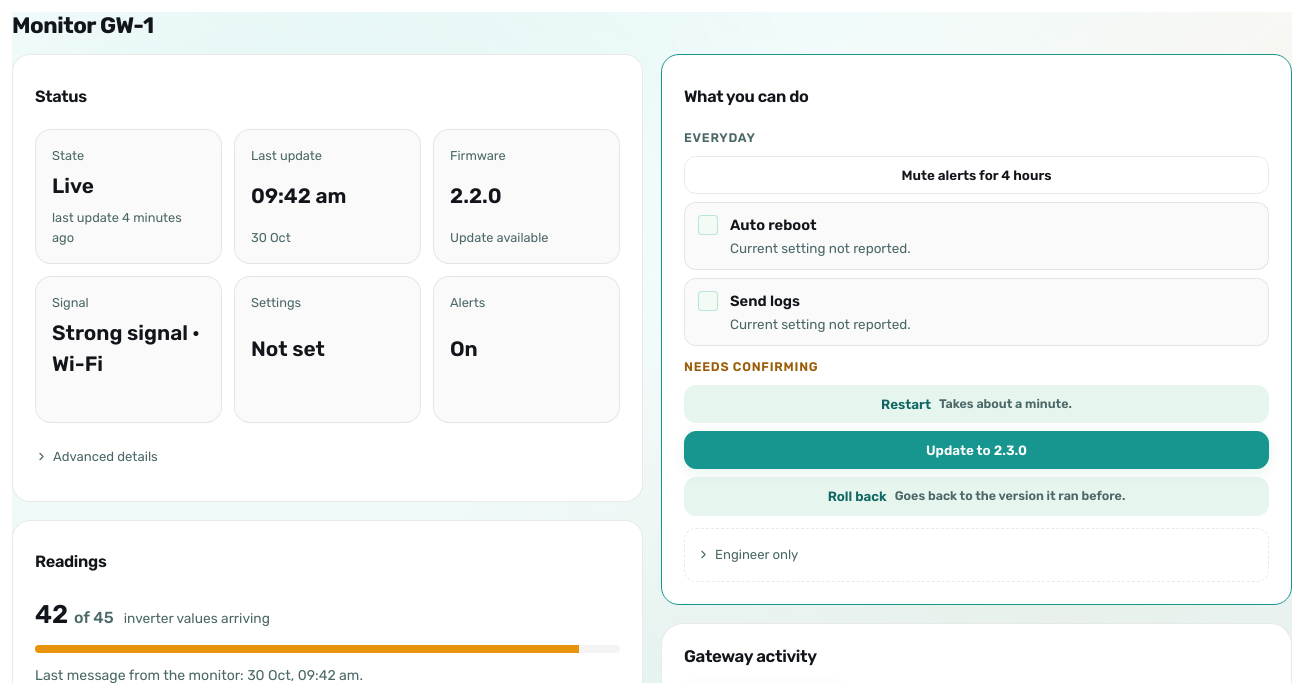
Test: DevicePage › mutes directly and shows a plain error on refusal (CF-4, CF-5)
Expected: the text "On" is shown, [450, 336, 478, 360]
Expected: the button "turn alerts back on" is not shown
Click the button "Mute alerts for 4 hours": (976, 175) [684, 156, 1269, 194]
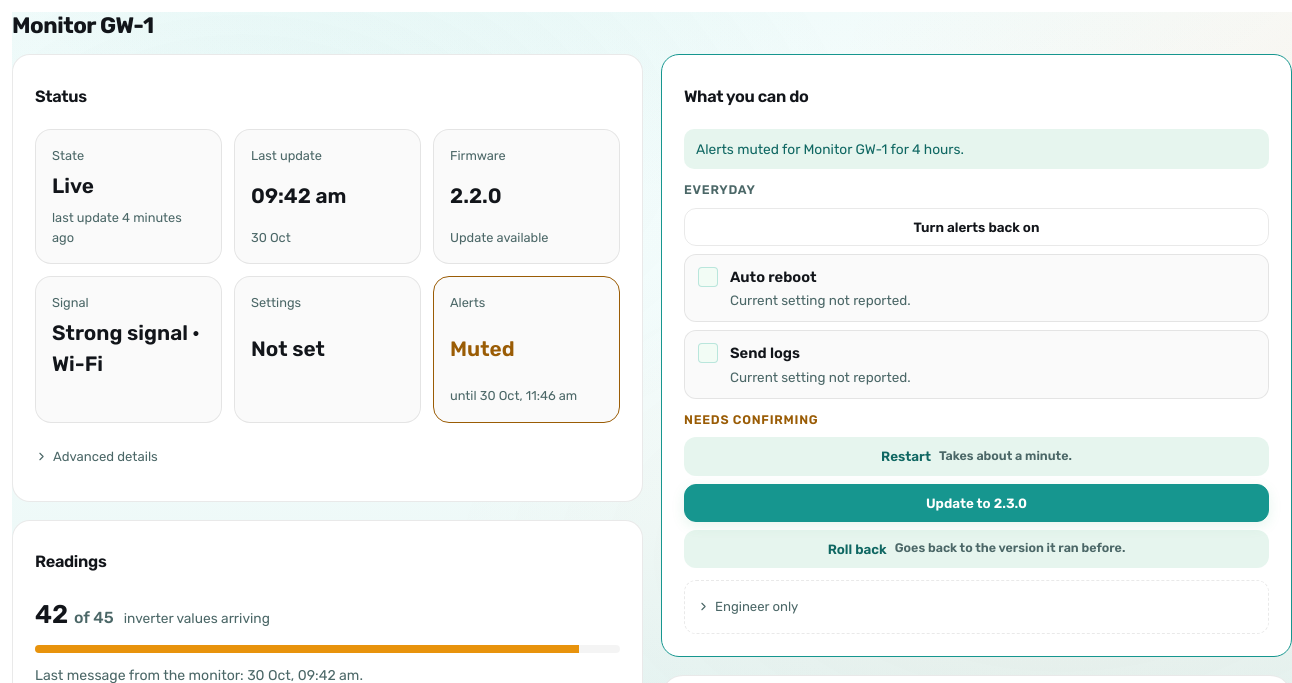
Expected: the text "Alerts muted for Monitor GW-1 for 4 hours." is shown, [684, 129, 1269, 169]
Expected: the button "Mute alerts" is gone
Click the button "Turn alerts back on": (976, 227) [684, 208, 1269, 246]
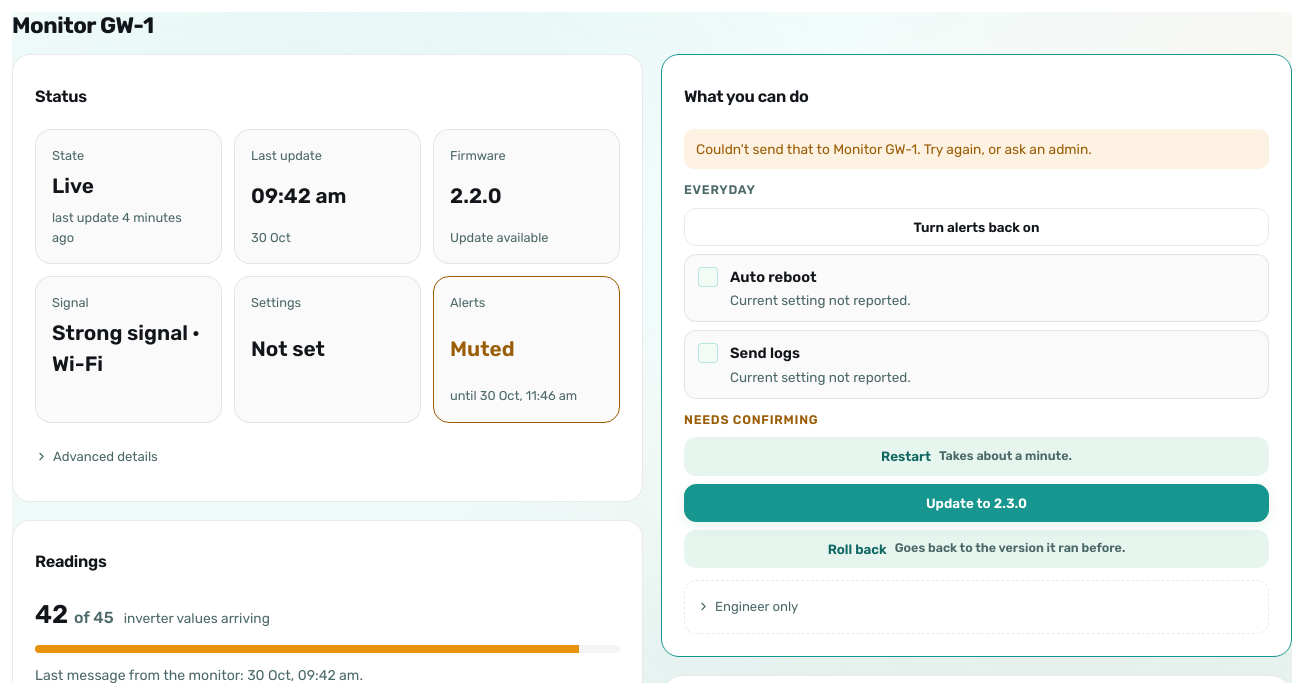
Expected: the text "Couldn't send that to Monitor GW-1. Try again, or ask an admin." is shown, [684, 129, 1269, 169]
